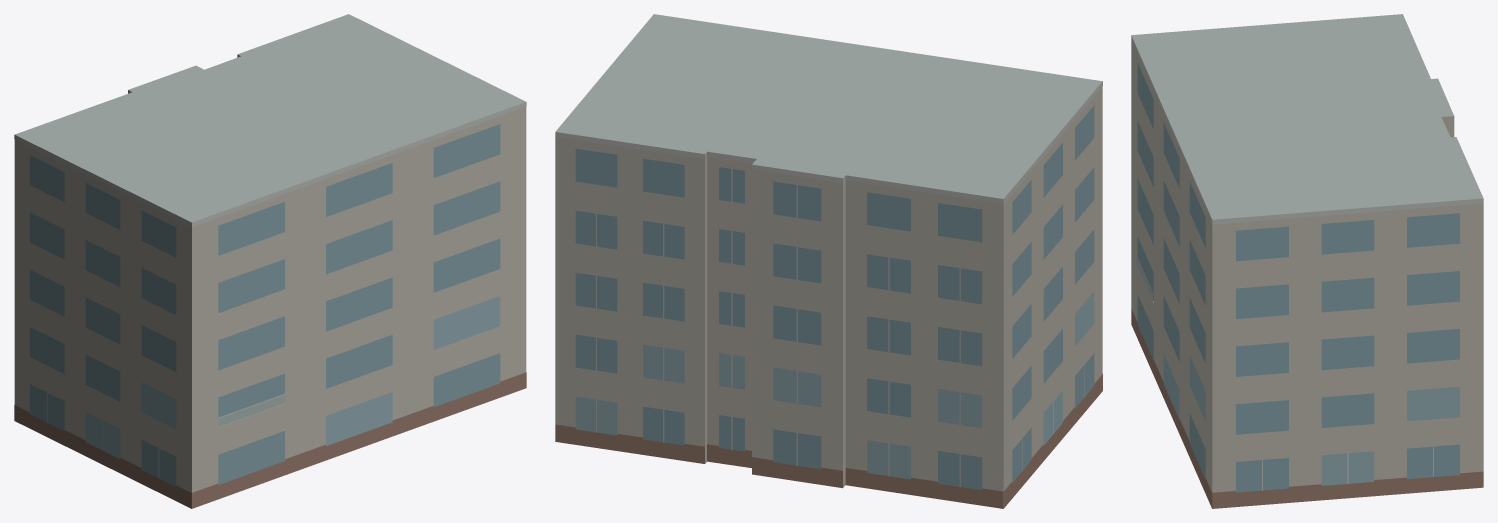
File: survey-upis-32849442.glb
The picture shows the model from 3 angles, left to right: view 1: azimuth 30°, elevation 25°; view 2: azimuth 150°, elevation 25°; view 3: azimuth 270°, elevation 25°; orthographic projection. The views are drawn at different scales.
Visible parts, largest first — view 1: survey-upis-32849442.tmp; view 2: survey-upis-32849442.tmp; view 3: survey-upis-32849442.tmp.
Boxes of the visible parts, x1,y1,x2,y2 form: survey-upis-32849442.tmp: (14, 14, 526, 508); survey-upis-32849442.tmp: (555, 14, 1102, 508); survey-upis-32849442.tmp: (1131, 14, 1483, 508).
Size of the model in its own units: 22.14 by 14.5 by 16.02.
